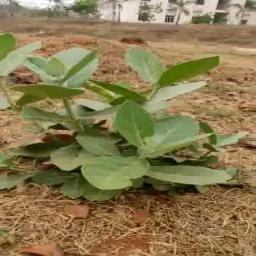CALOTROPIS: (8, 33, 239, 196)
